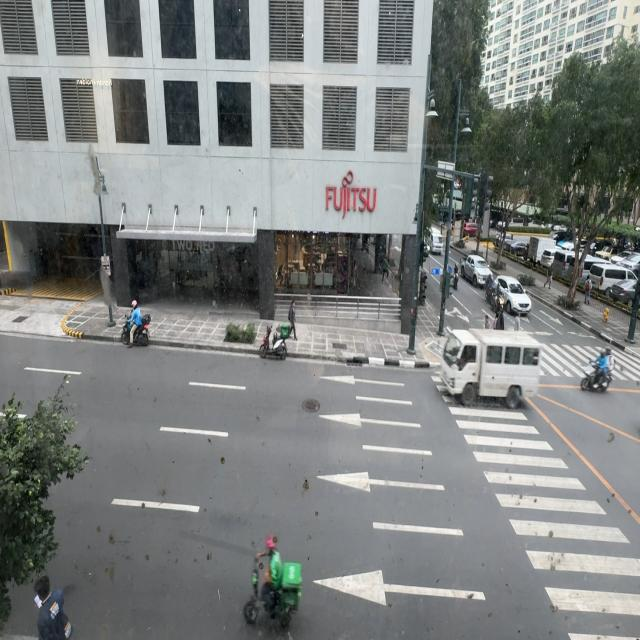crossing: (510, 309, 527, 337), (497, 299, 508, 333), (484, 314, 490, 328)
pedestrain: (545, 260, 553, 288), (584, 277, 591, 304)
